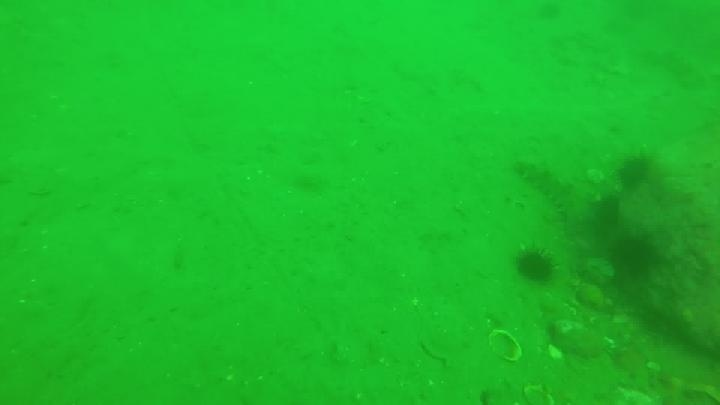echinus: (607, 233, 660, 280), (513, 246, 557, 286), (615, 153, 655, 192), (588, 194, 625, 234)
holothurian: (513, 155, 589, 234)
